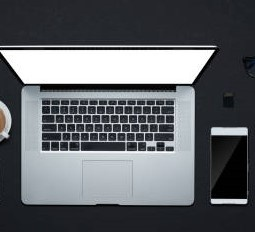keyboard: (40, 98, 176, 153)
laptop: (1, 44, 214, 206)
phone: (207, 124, 250, 207)
